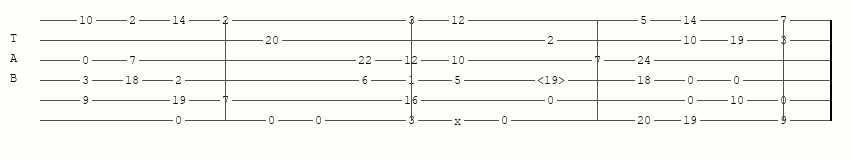0: (82, 54, 93, 66), (175, 114, 186, 126), (268, 114, 279, 126), (315, 114, 326, 126), (501, 114, 512, 126), (547, 94, 558, 106), (687, 74, 698, 86), (687, 94, 698, 106), (733, 74, 744, 86), (780, 94, 791, 106)
1: (408, 74, 419, 86)
10: (79, 14, 97, 26), (451, 54, 469, 66), (683, 34, 701, 46), (730, 94, 748, 106)
12: (404, 54, 422, 66), (451, 14, 469, 26)
14: (172, 14, 190, 26), (683, 14, 701, 26)
16: (404, 94, 422, 106)
18: (125, 74, 143, 86), (637, 74, 655, 86)
19: (172, 94, 190, 106), (683, 114, 701, 126), (730, 34, 748, 46)
2: (129, 14, 140, 26), (175, 74, 186, 86), (222, 14, 233, 26), (547, 34, 558, 46)
20: (265, 34, 283, 46), (637, 114, 655, 126)
22: (358, 54, 376, 66)
24: (637, 54, 655, 66)
3: (82, 74, 93, 86), (408, 114, 419, 126), (408, 14, 419, 26), (780, 34, 791, 46)
5: (454, 74, 465, 86), (640, 14, 651, 26)
6: (361, 74, 372, 86)
7: (129, 54, 140, 66), (222, 94, 233, 106), (594, 54, 605, 66), (780, 14, 791, 26)
9: (82, 94, 93, 106), (780, 114, 791, 126)
harmonic: (537, 74, 569, 87)
x: (454, 115, 465, 125)
